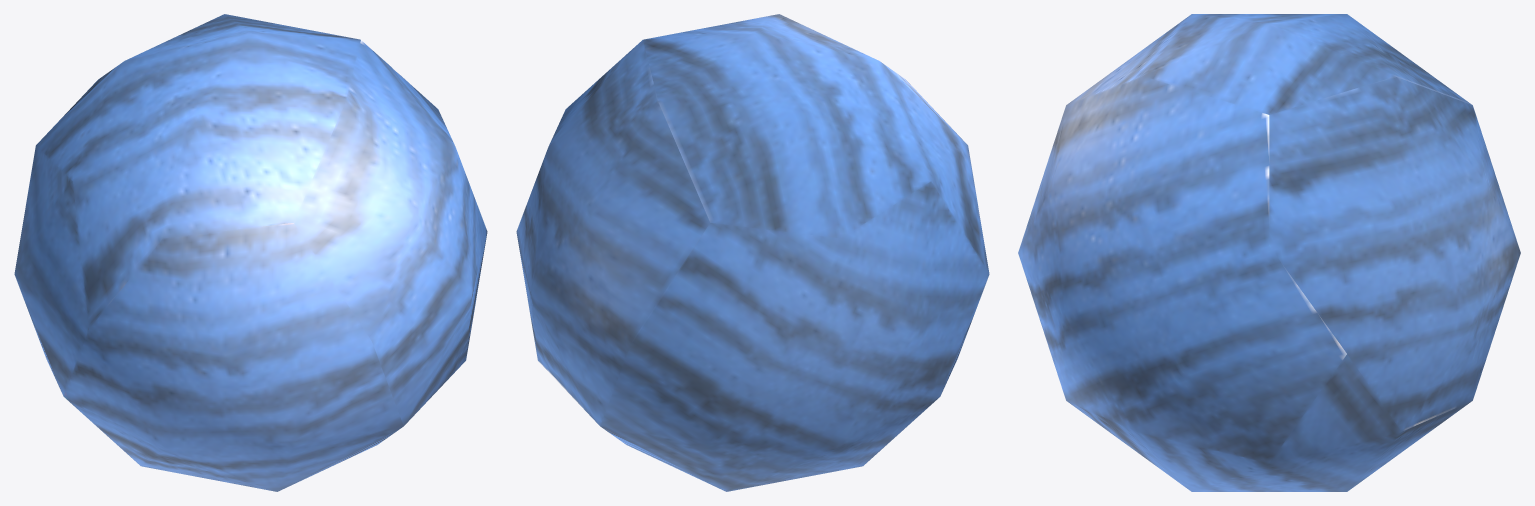
Rendered from BluePlanet.glb.
3 views of the same model, side by side, from view 1: azimuth 30°, elevation 25°; view 2: azimuth 150°, elevation 25°; view 3: azimuth 270°, elevation 25° (orthographic). The views are drawn at different scales.
Visible parts, largest first — view 1: 棱角球.004; view 2: 棱角球.004; view 3: 棱角球.004.
Part boxes in pixels (x1=…): 棱角球.004: x1=14, y1=14, x2=487, y2=491; 棱角球.004: x1=516, y1=14, x2=989, y2=491; 棱角球.004: x1=1018, y1=14, x2=1520, y2=491.
Size of what is drawn, in the model's own units: 5.34 by 5.61 by 5.61.
Materials: 1 (1 with a texture image).
